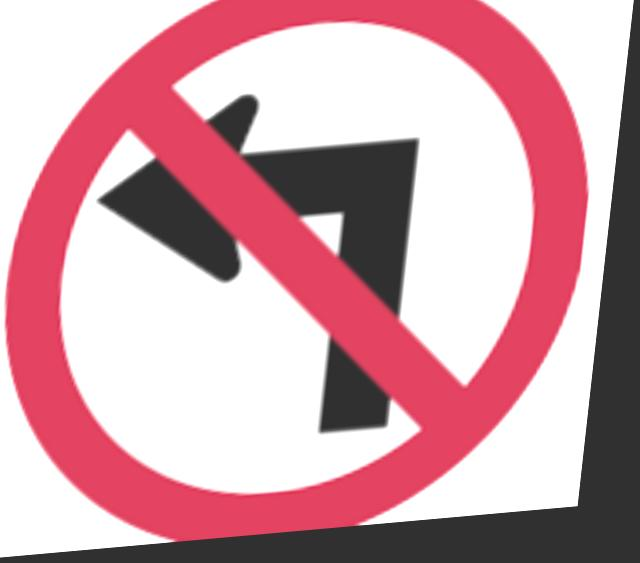not_turn_left: (0, 0, 626, 561)
